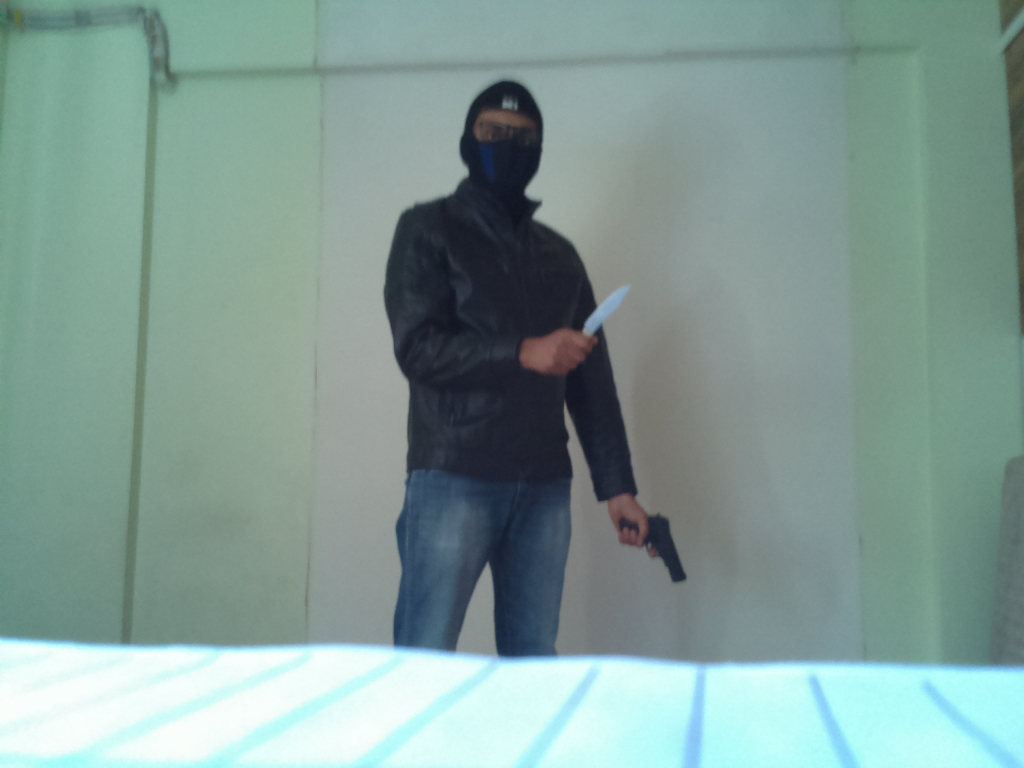gun: (616, 514, 695, 590)
knife: (578, 280, 636, 349)
